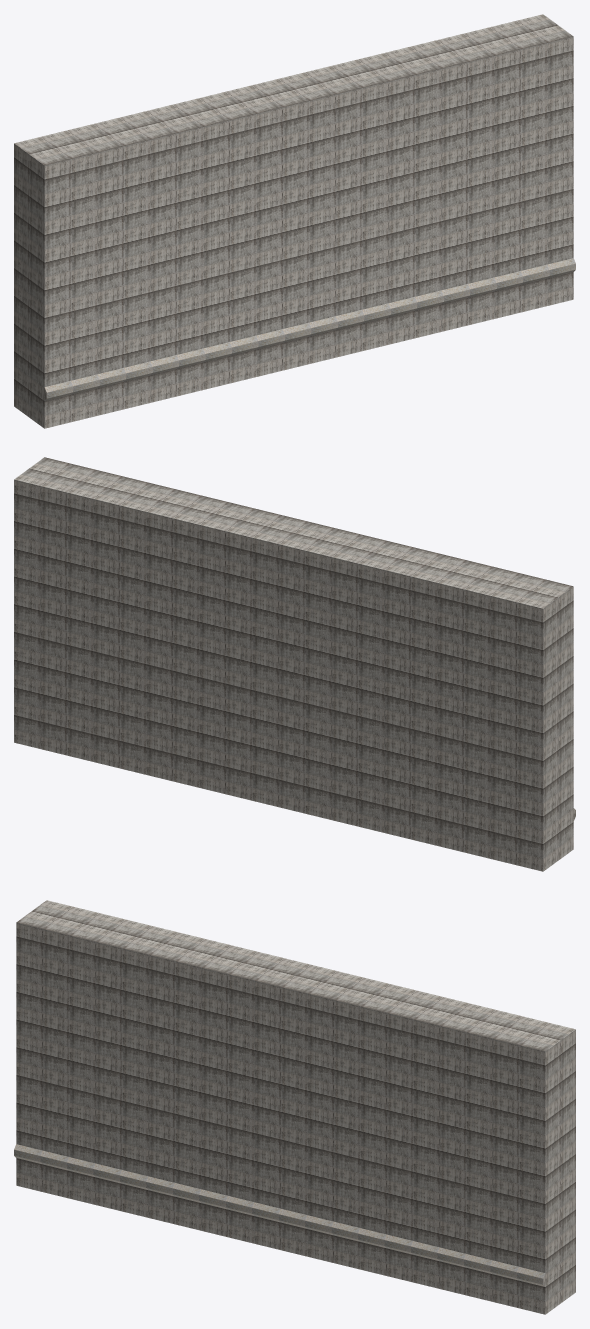
3 renders of one model, top to bottom at view 1: azimuth 30°, elevation 25°; view 2: azimuth 150°, elevation 25°; view 3: azimuth 330°, elevation 25°, orthographic.
Visible parts, largest first — view 1: TexturesCom_ConcreteLeaking0255_1_M, TexturesCom_BrickMessy0175_2_M; view 2: TexturesCom_ConcreteLeaking0255_1_M; view 3: TexturesCom_ConcreteLeaking0255_1_M, TexturesCom_BrickMessy0175_2_M.
Boxes of the visible parts, x1,y1,x2,y2 form: TexturesCom_ConcreteLeaking0255_1_M: (14, 14, 573, 428); TexturesCom_BrickMessy0175_2_M: (44, 258, 575, 400); TexturesCom_ConcreteLeaking0255_1_M: (14, 457, 575, 871); TexturesCom_ConcreteLeaking0255_1_M: (16, 900, 575, 1314); TexturesCom_BrickMessy0175_2_M: (14, 1144, 545, 1286).
Bounding box in the file's own units: 20 × 9.5 × 2.14.
2 materials, 2 textured.
